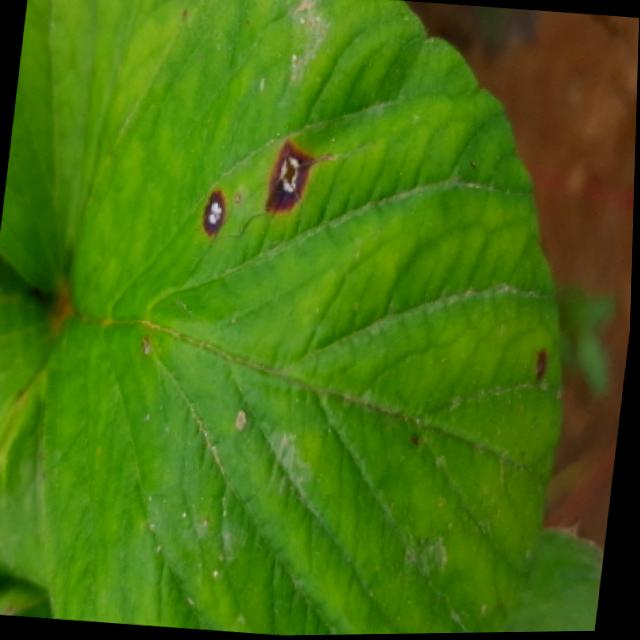Leaf Spot: (46, 0, 566, 636), (504, 524, 608, 634)
